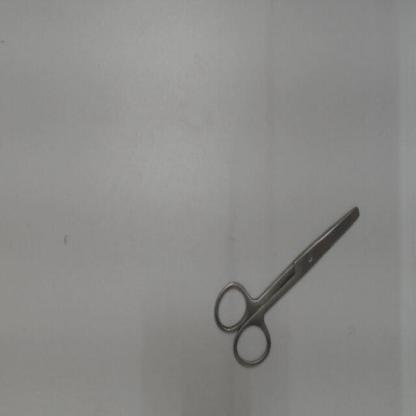Dressing Scissors: (206, 190, 374, 376)
